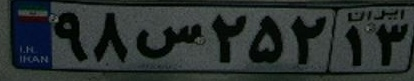character: (133, 17, 206, 62), (286, 12, 329, 69), (207, 9, 248, 66), (92, 6, 129, 68), (247, 10, 286, 68), (53, 9, 89, 68), (374, 23, 414, 70), (341, 23, 367, 72)
